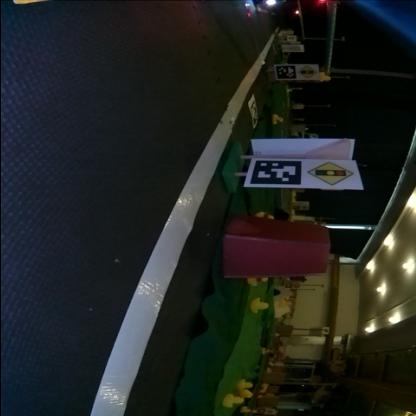Duckie: (222, 394, 243, 408), (254, 300, 268, 314), (249, 279, 268, 286), (254, 214, 273, 221), (272, 115, 284, 125), (323, 75, 330, 81), (262, 348, 268, 354)
QR code: (252, 162, 300, 184), (249, 96, 259, 127), (275, 66, 294, 80)
Signal sign: (308, 162, 354, 186), (298, 66, 316, 80)
